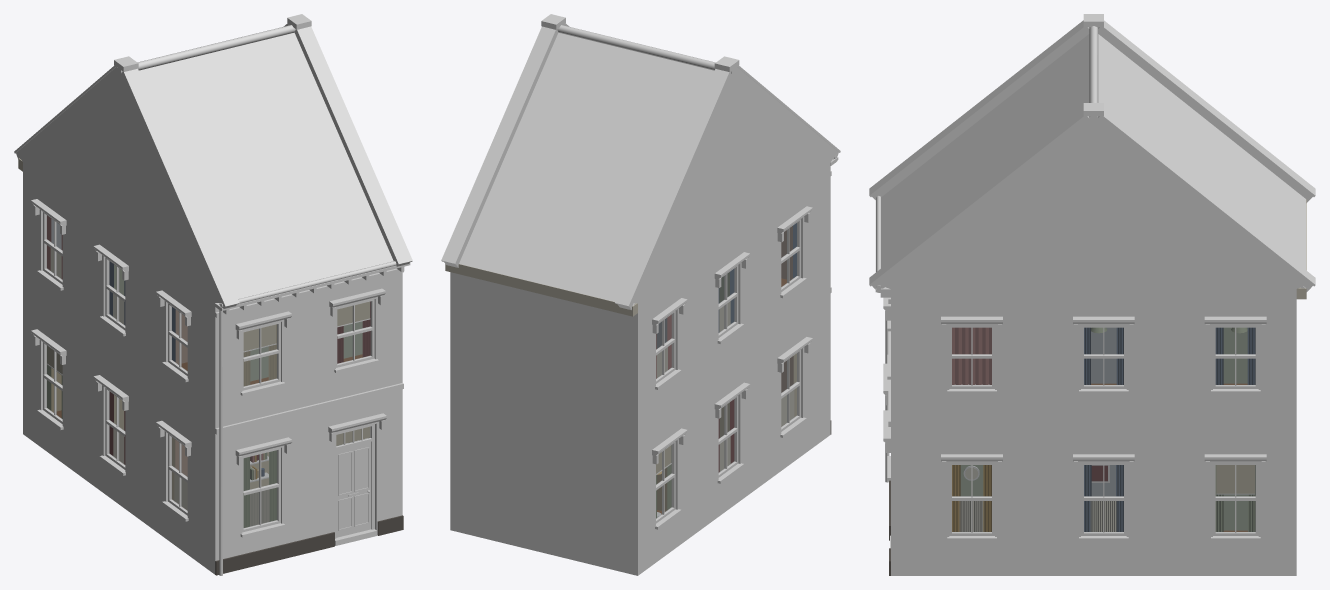
File: GateStreet_BehindInner1.glb
3 renders of one model, left to right at view 1: azimuth 30°, elevation 25°; view 2: azimuth 150°, elevation 25°; view 3: azimuth 270°, elevation 25°, orthographic. The views are drawn at different scales.
Parts seen in each view (by area): view 1: GateStreet_BehindInner1; view 2: GateStreet_BehindInner1; view 3: GateStreet_BehindInner1.
Boxes of the visible parts, x1,y1,x2,y2 form: GateStreet_BehindInner1: (14, 14, 412, 575); GateStreet_BehindInner1: (441, 14, 840, 575); GateStreet_BehindInner1: (869, 14, 1315, 575).
Size of the model in its own units: 4.8 by 10.13 by 8.8.
